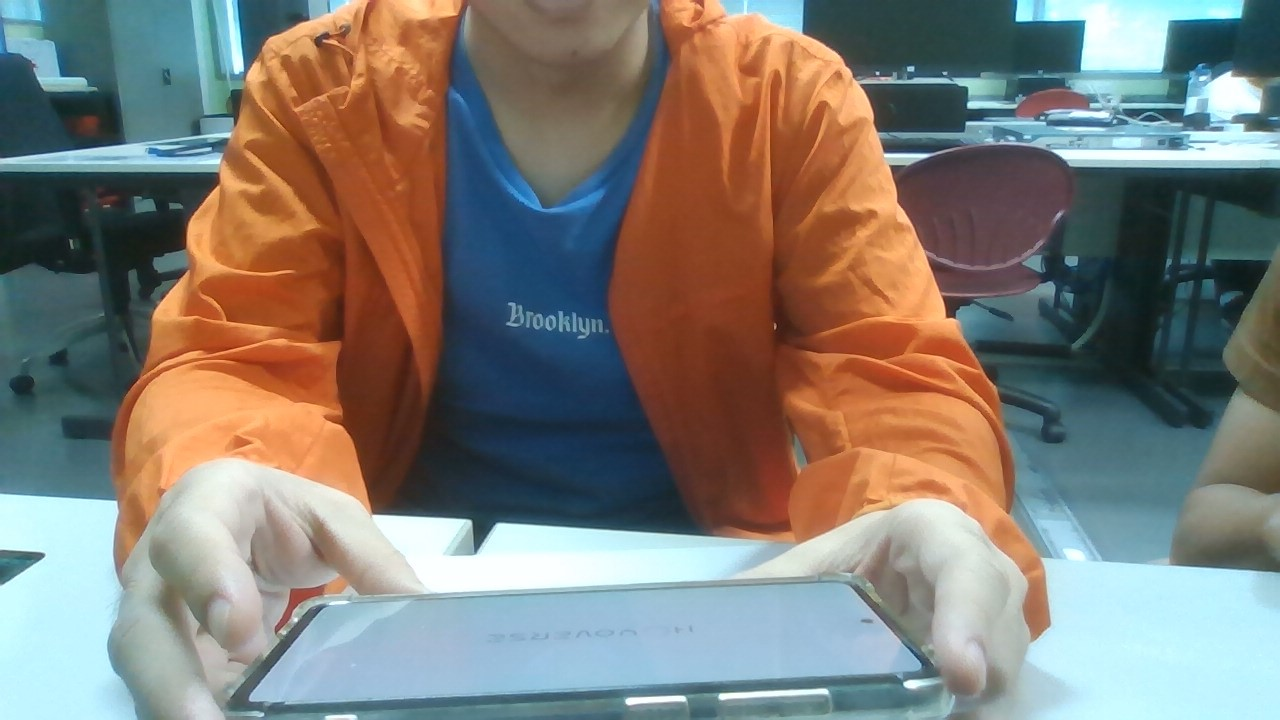phone: (216, 573, 958, 720)
